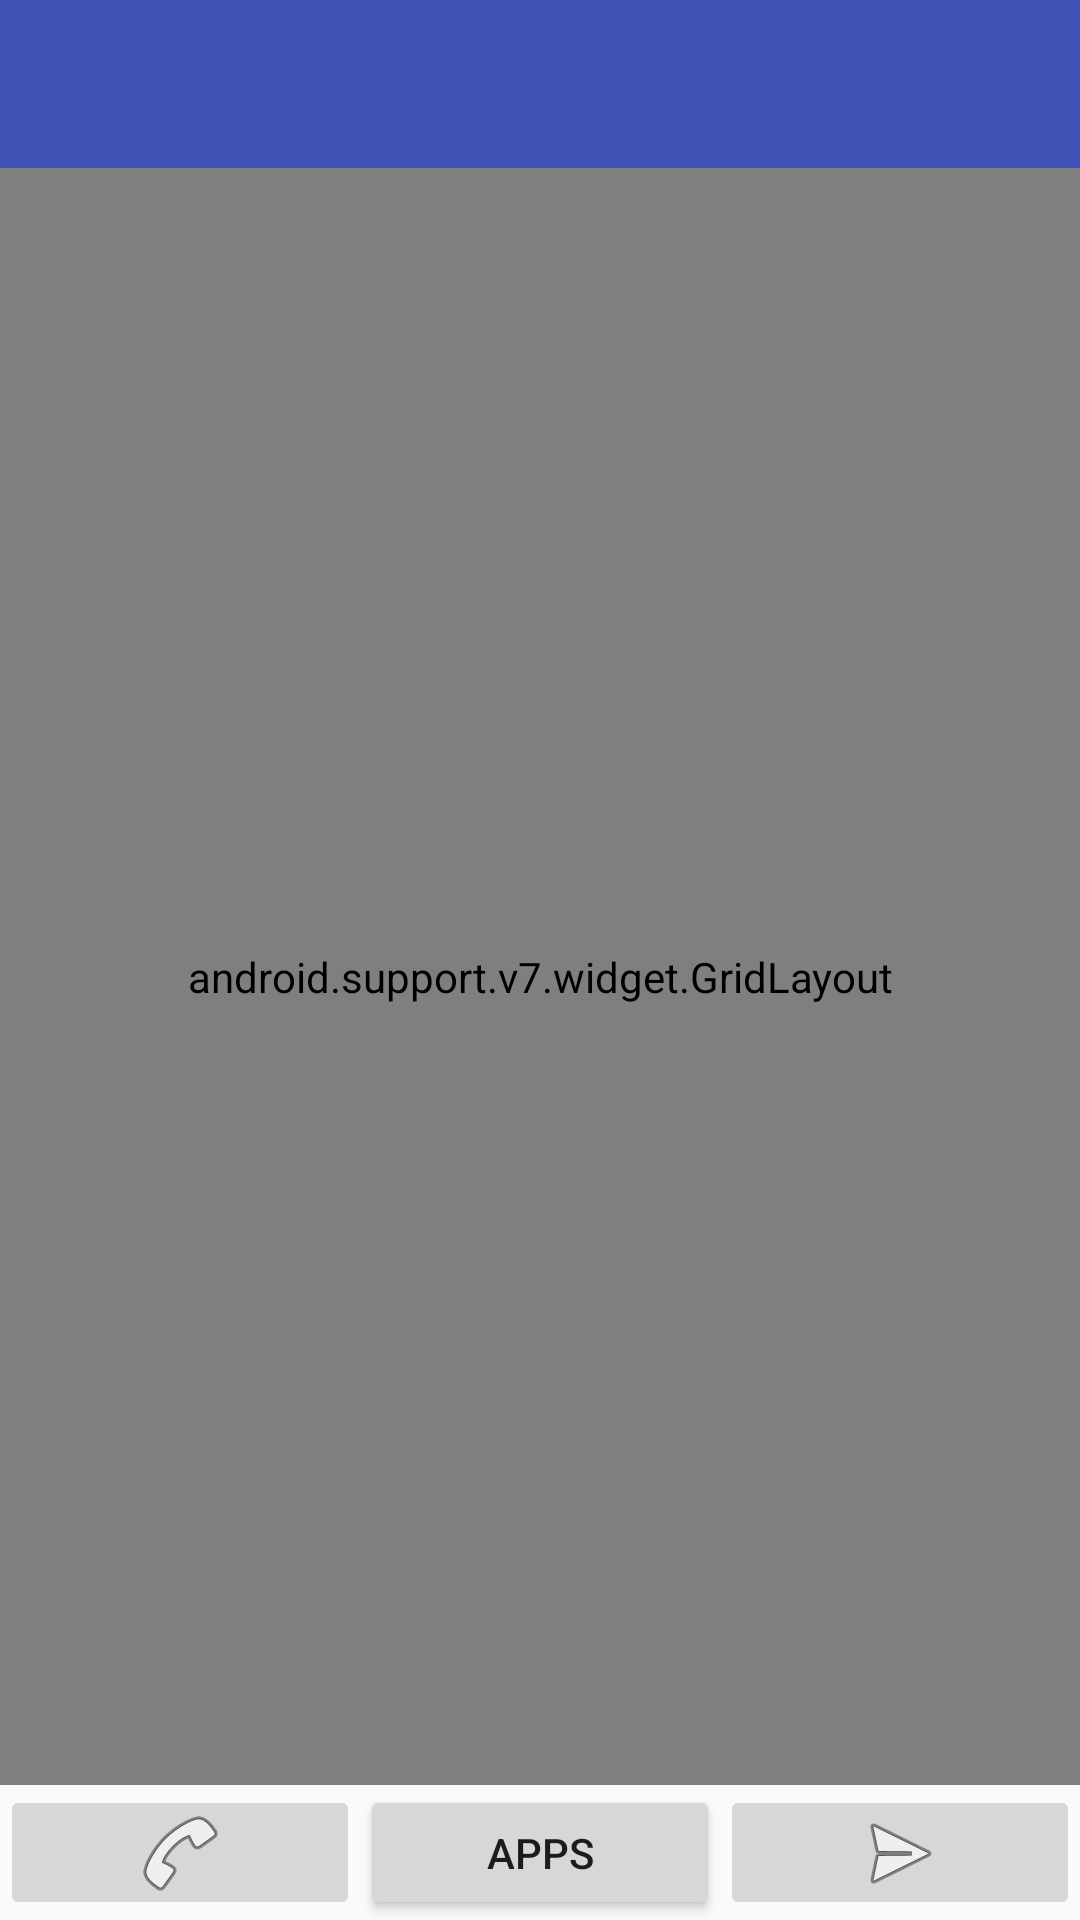

Named icons in this screenshot (1080x1920) and their bounding boxes, (x1, y1, x2, y2):
call: (12, 1803, 348, 1902)
send: (732, 1803, 1068, 1902)
